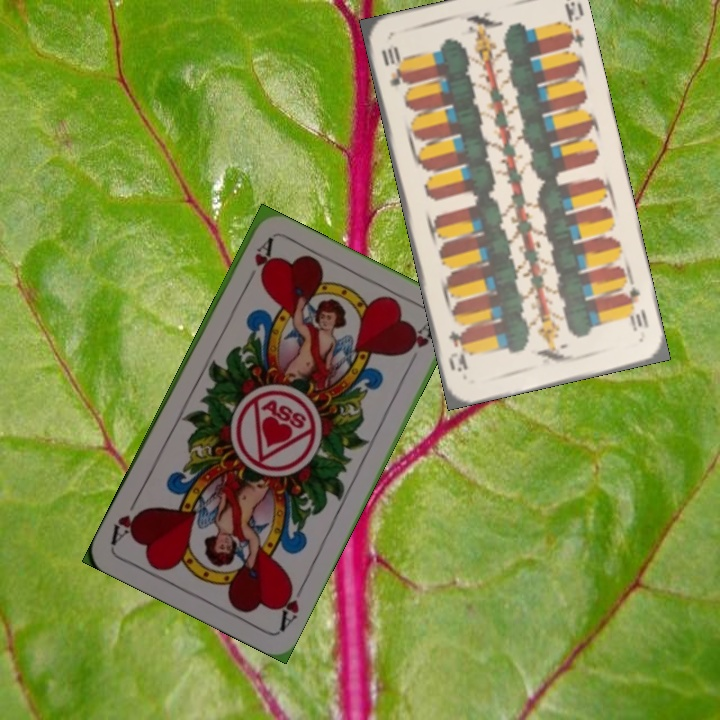E10: (377, 42, 410, 95), (619, 282, 652, 334)
HA: (274, 577, 309, 633), (241, 235, 276, 290)
